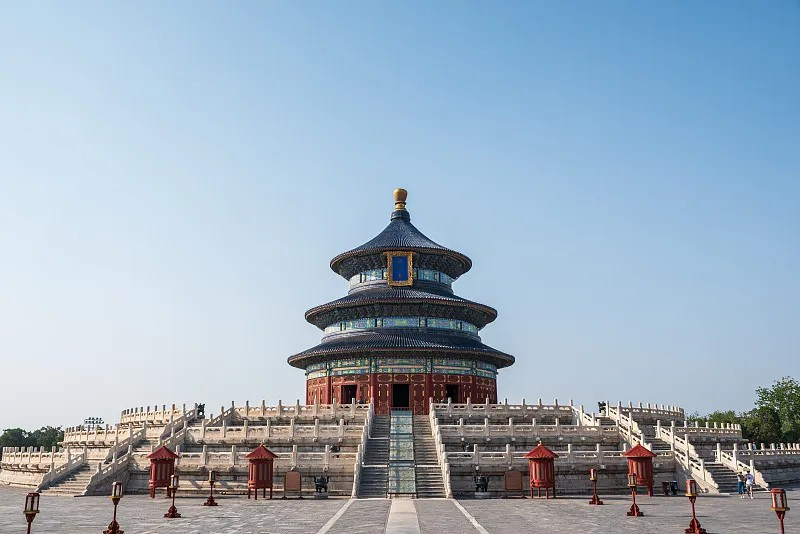Heaven: (287, 190, 516, 413)
